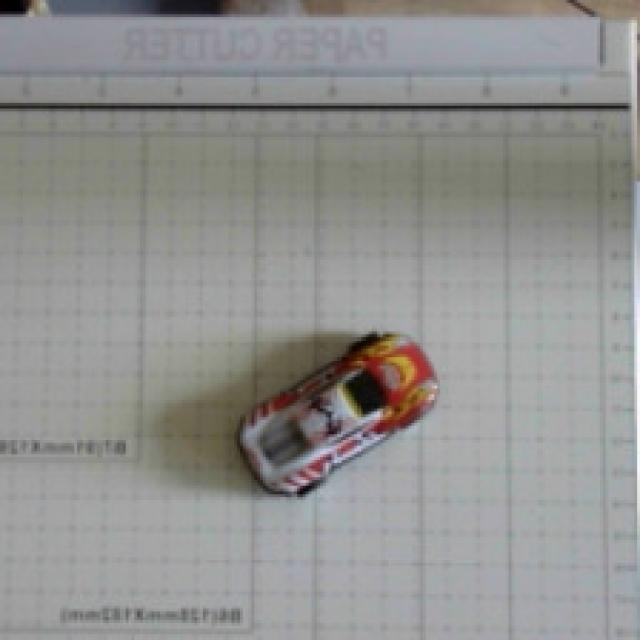Red Car: (201, 302, 470, 529)
